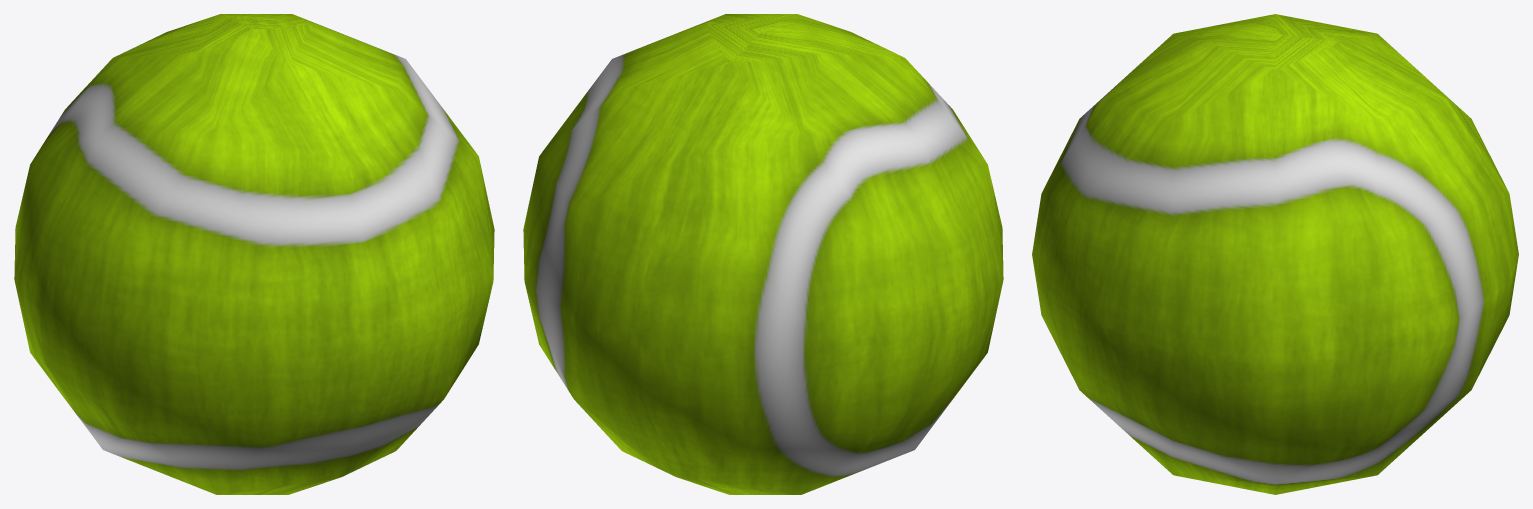
File: Tennis ball.fbx
The picture shows the model from 3 angles, left to right: view 1: azimuth 30°, elevation 25°; view 2: azimuth 150°, elevation 25°; view 3: azimuth 270°, elevation 25°; orthographic projection.
Visible parts, largest first — view 1: Tennis ball; view 2: Tennis ball; view 3: Tennis ball.
Part boxes in pixels (<box>): Tennis ball: <box>14,14,494,494</box>; Tennis ball: <box>523,14,1003,494</box>; Tennis ball: <box>1032,14,1518,494</box>.
Bounding box in the file's own units: 100 × 100 × 100.
